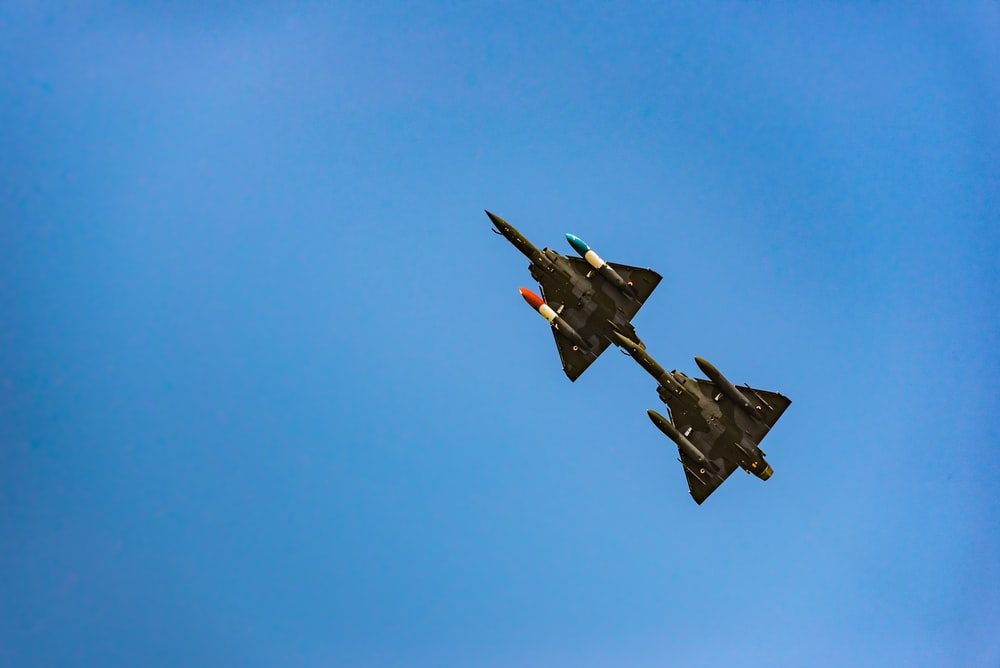Mirage2000: (611, 329, 793, 506), (482, 208, 664, 383)
